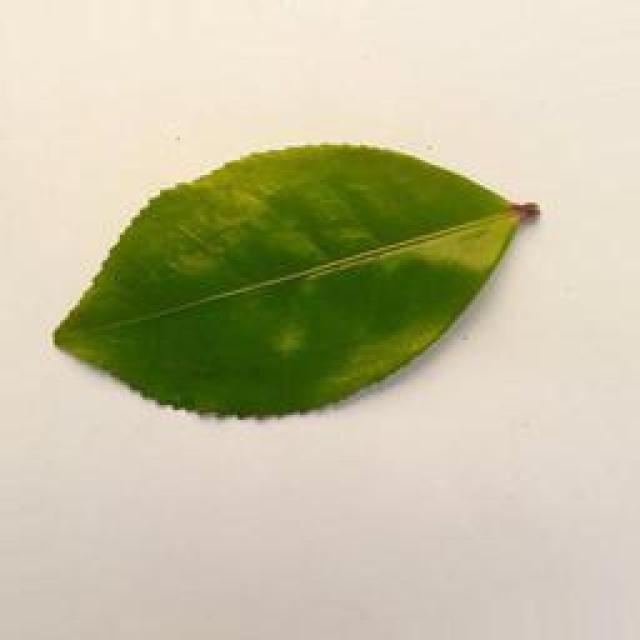Healthy: (52, 139, 554, 428)
